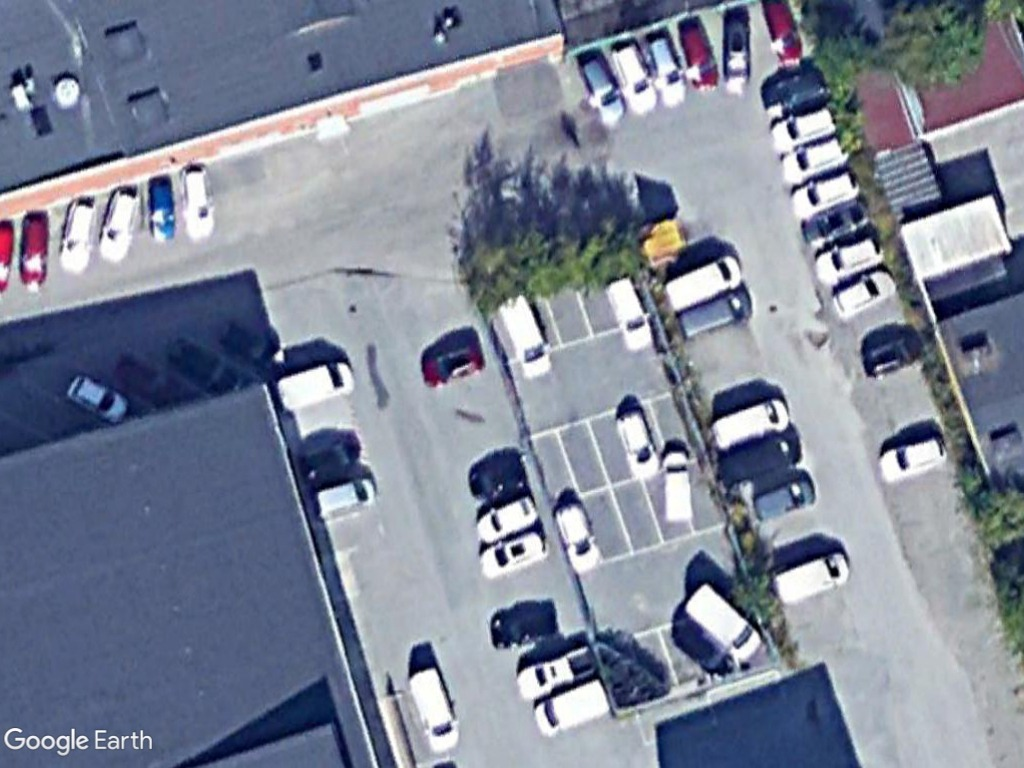car: (764, 97, 847, 161), (570, 44, 633, 128), (466, 485, 542, 551), (549, 495, 606, 583), (810, 224, 886, 290), (606, 34, 665, 117), (778, 131, 860, 189), (473, 527, 553, 586), (870, 432, 958, 485), (55, 189, 104, 282), (784, 167, 866, 222), (826, 265, 902, 323), (613, 404, 666, 487), (745, 472, 826, 525), (638, 27, 692, 106), (98, 179, 146, 267), (674, 14, 724, 96), (61, 372, 136, 426), (715, 8, 760, 97), (14, 206, 58, 293), (857, 330, 932, 379), (417, 339, 490, 389), (176, 157, 217, 240), (143, 173, 185, 245)
van: (679, 578, 765, 666), (659, 250, 750, 318), (493, 290, 559, 382), (711, 429, 807, 491), (405, 664, 466, 759), (529, 676, 615, 742), (271, 353, 359, 415), (767, 548, 859, 607), (702, 394, 791, 452), (600, 269, 658, 356), (671, 288, 754, 343), (308, 474, 384, 524), (658, 445, 695, 530)
